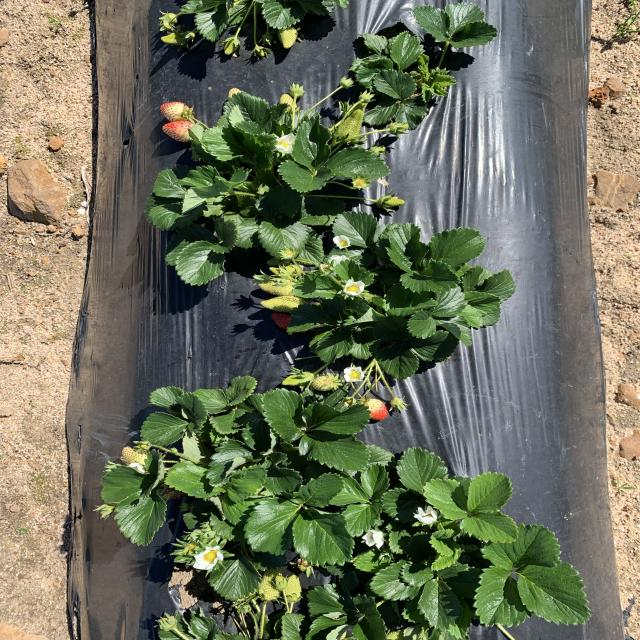unripe: (270, 312, 308, 333), (363, 399, 389, 421)
